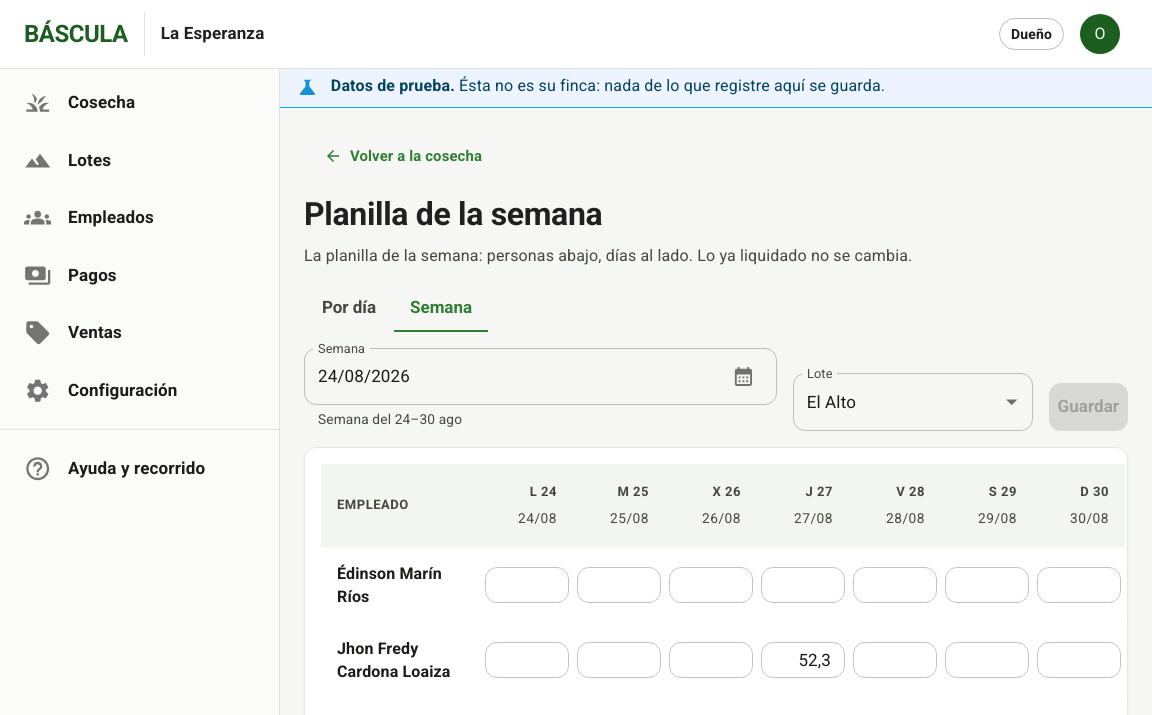
Test: Planilla edges › goes back to the harvest
The image size is (1152, 715).
Step 1. Click the link "Volver a la cosecha" → click(403, 156), box [324,147,482,165]
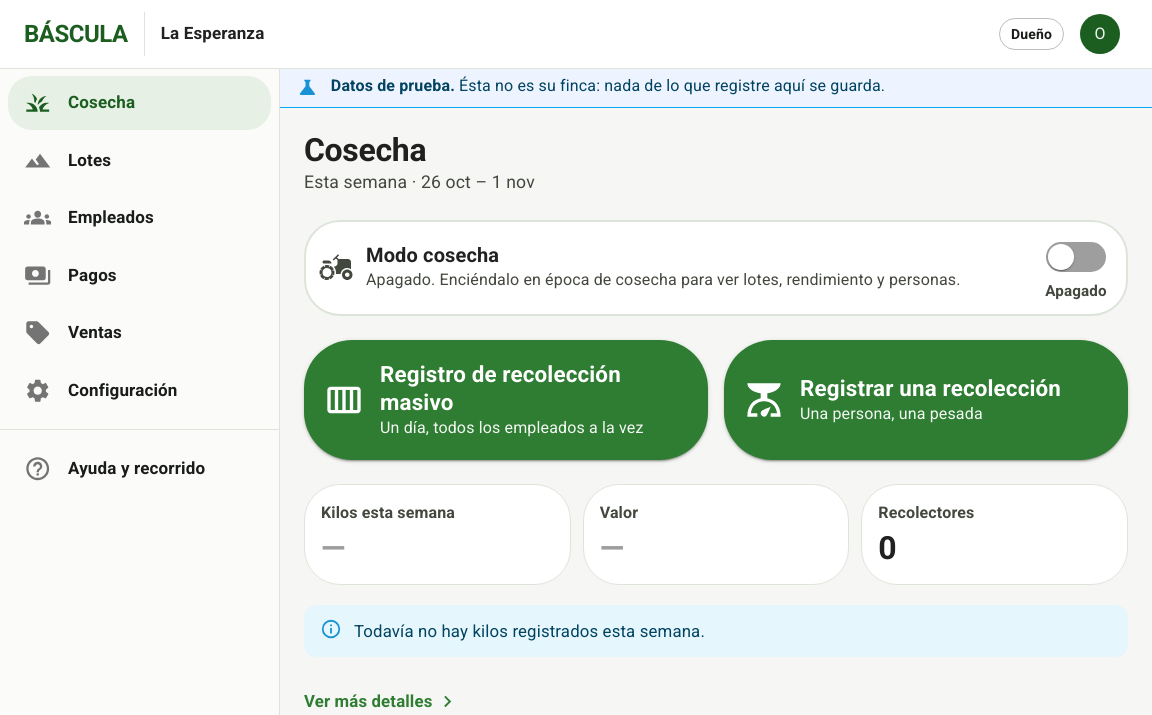
Expected: the heading "Cosecha" is shown, [304,131,426,169]
